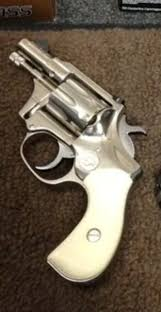gun: (9, 37, 148, 284)
